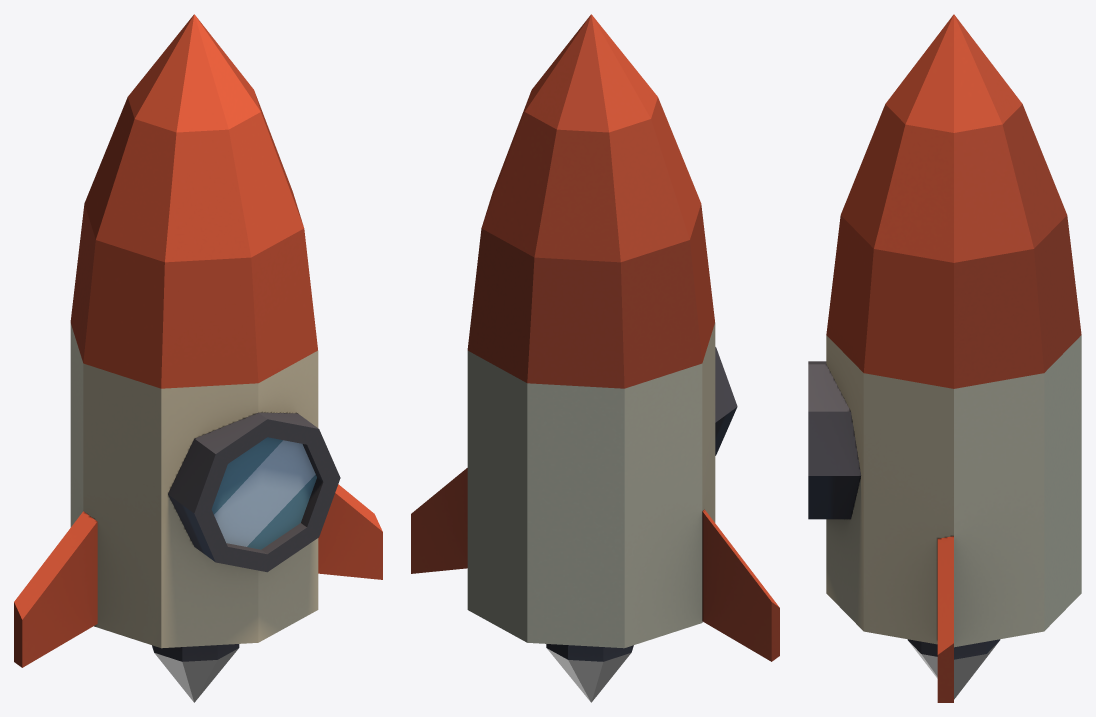
The model's file is PUSHILIN_rocket_ship.obj.
3 views of the same model, side by side, from view 1: azimuth 30°, elevation 25°; view 2: azimuth 150°, elevation 25°; view 3: azimuth 270°, elevation 25° (orthographic).
Visible parts, largest first — view 1: rocket_ship; view 2: rocket_ship; view 3: rocket_ship.
Boxes of the visible parts, x1,y1,x2,y2 form: rocket_ship: (14, 14, 382, 702); rocket_ship: (411, 14, 779, 702); rocket_ship: (808, 14, 1081, 702).
Size of the model in its own units: 1.47 by 2.69 by 0.9705.
Materials: 1 (1 with a texture image).
